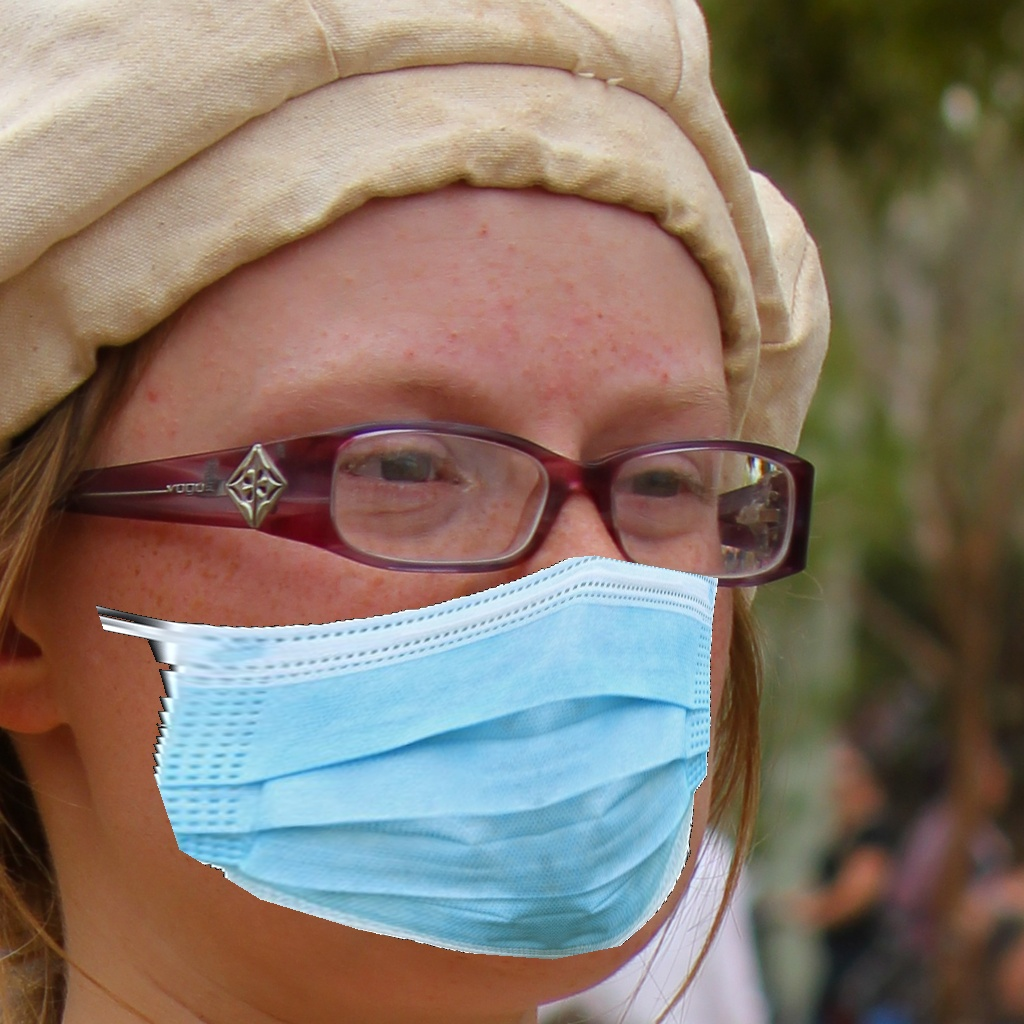Mask: (89, 401, 786, 950)
